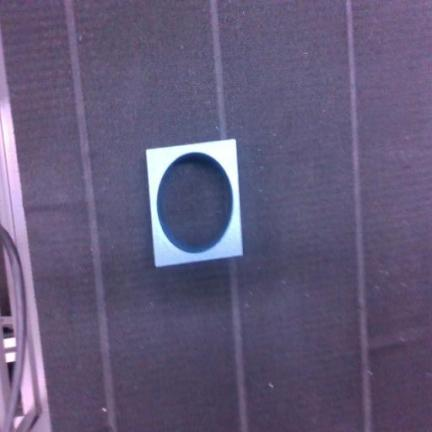hole: (146, 140, 242, 266)
